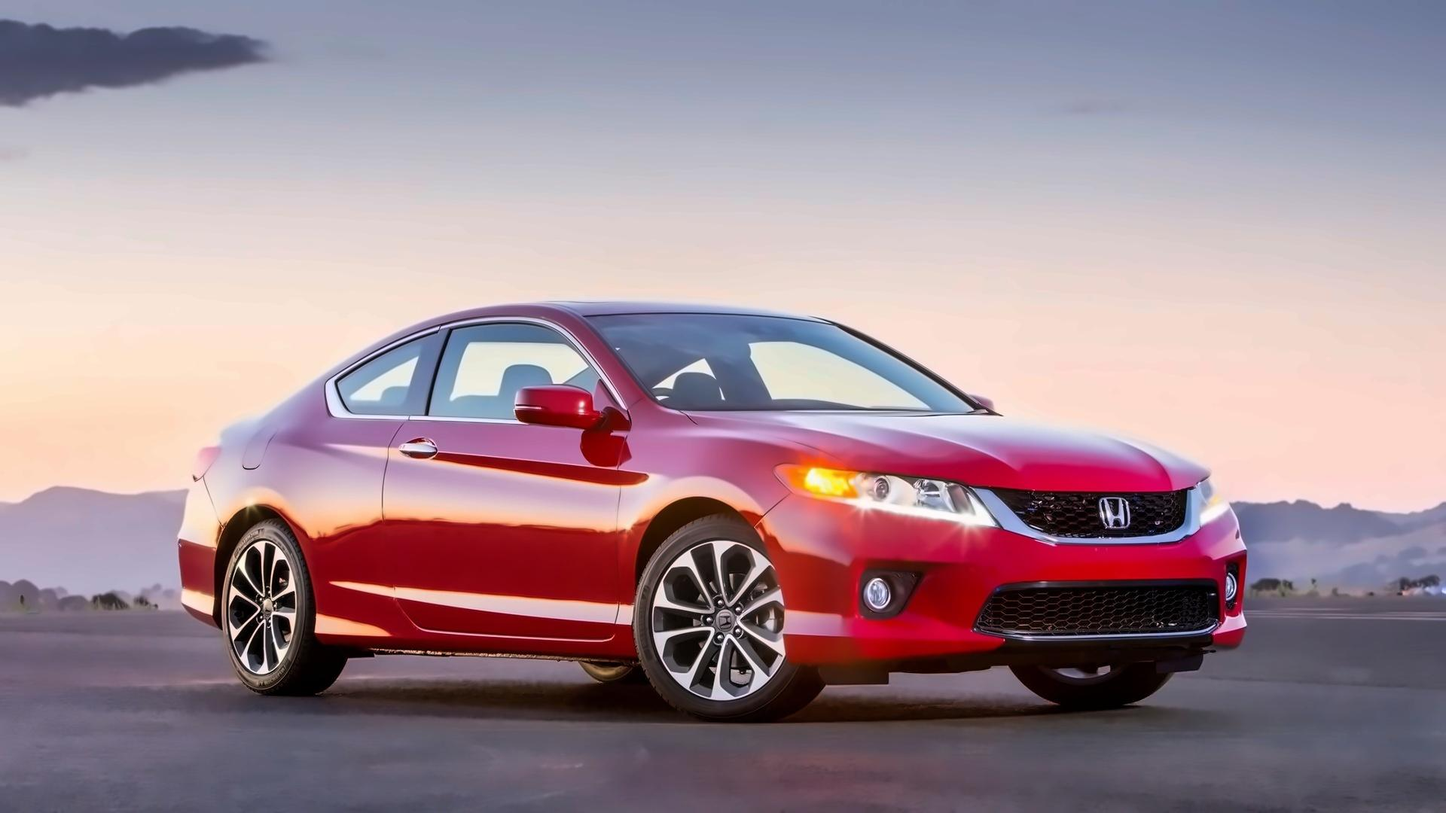Car hood: (764, 511, 1266, 675), (681, 405, 1217, 497)
Driver-s door - -F-R-: (378, 304, 617, 649)
Fender - -F-R-: (616, 393, 793, 664), (205, 418, 324, 651)
Headlight - -L-: (1174, 463, 1237, 537)
Headlight - -R-: (767, 458, 1007, 537)
Rear bumper: (170, 480, 227, 634)
Rear light - -R-: (184, 417, 232, 489)
Side bumper - -R-: (301, 610, 650, 672)
Side mirror - -R-: (506, 374, 607, 437)
